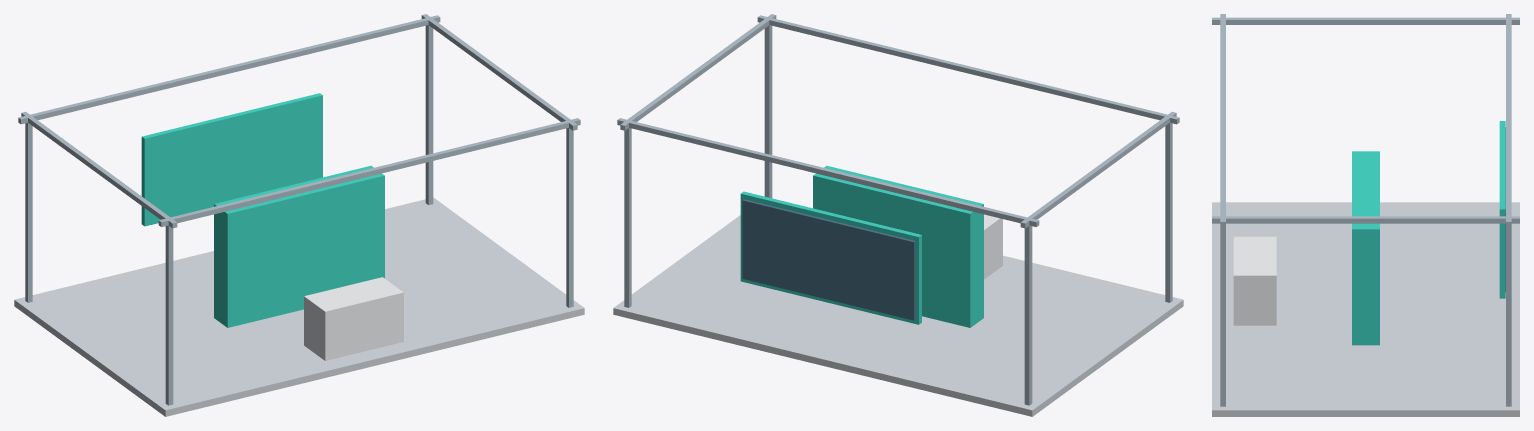
3 views of the same model, side by side, from view 1: azimuth 30°, elevation 25°; view 2: azimuth 150°, elevation 25°; view 3: azimuth 270°, elevation 25° (orthographic).
Visible parts, largest first — view 1: Exhibition Booth Concept; view 2: Exhibition Booth Concept; view 3: Exhibition Booth Concept.
Part boxes in pixels (<box>): Exhibition Booth Concept: <box>14,14,584,416</box>; Exhibition Booth Concept: <box>613,14,1183,416</box>; Exhibition Booth Concept: <box>1212,14,1519,416</box>.
Bounding box in the file's own units: 8 × 3.49 × 5.
